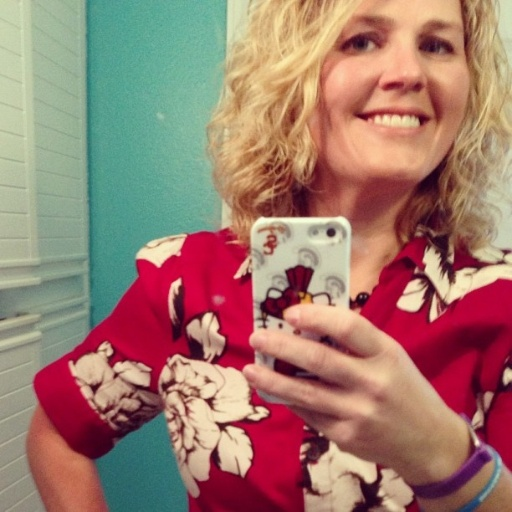hand: (226, 282, 474, 485)
